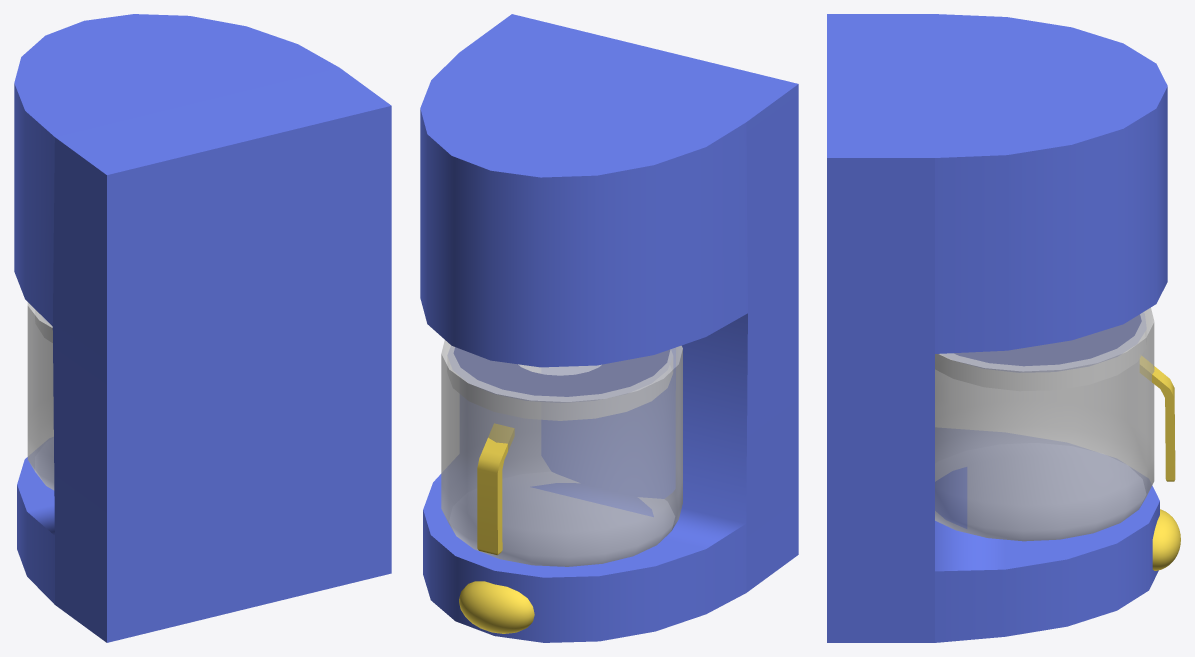
File: filtre_kahve.fbx
3 views of the same model, side by side, from view 1: azimuth 30°, elevation 25°; view 2: azimuth 150°, elevation 25°; view 3: azimuth 270°, elevation 25° (orthographic). The views are drawn at different scales.
Visible parts, largest first — view 1: filtre_kahve; view 2: filtre_kahve; view 3: filtre_kahve.
Boxes of the visible parts, x1,y1,x2,y2 form: filtre_kahve: (14, 14, 391, 642); filtre_kahve: (420, 14, 798, 642); filtre_kahve: (827, 14, 1180, 642).
Size of the model in its own units: 0.8311 by 1.3 by 0.8572.
